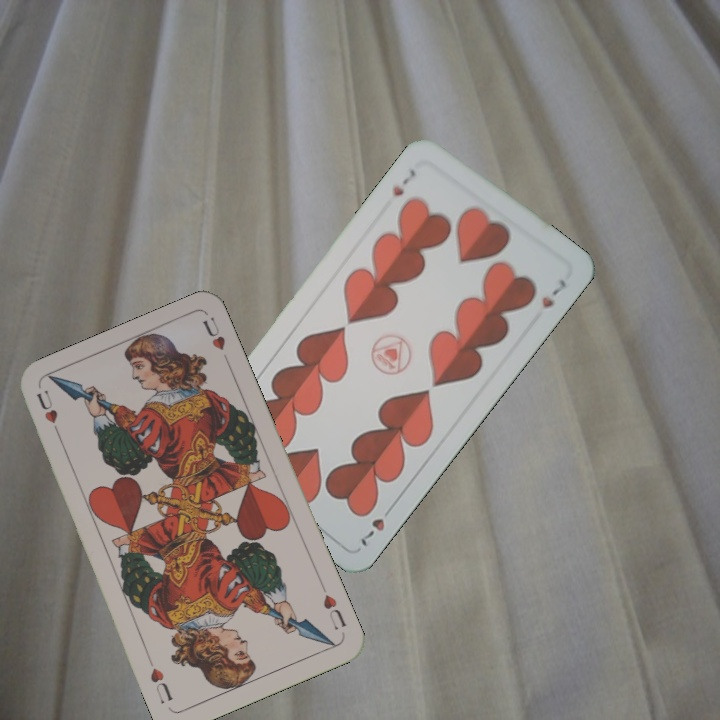H7: (356, 500, 397, 550), (388, 165, 419, 199)
HU: (32, 386, 64, 442), (319, 590, 349, 633)
